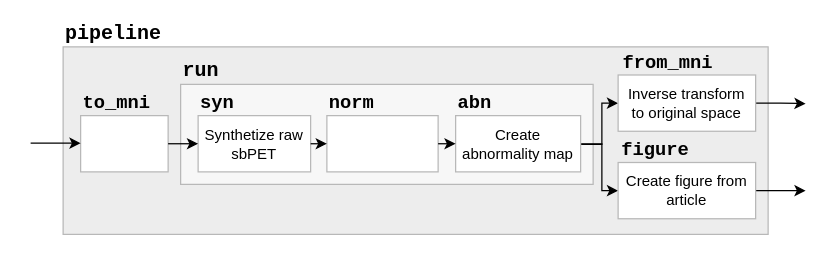
Image size: 838x256. Some labels were removed from this diagram. Each missing label, with the centre of its shape:
Normalize sbPET to PET: [382,143]
Register to mni: [123,143]
